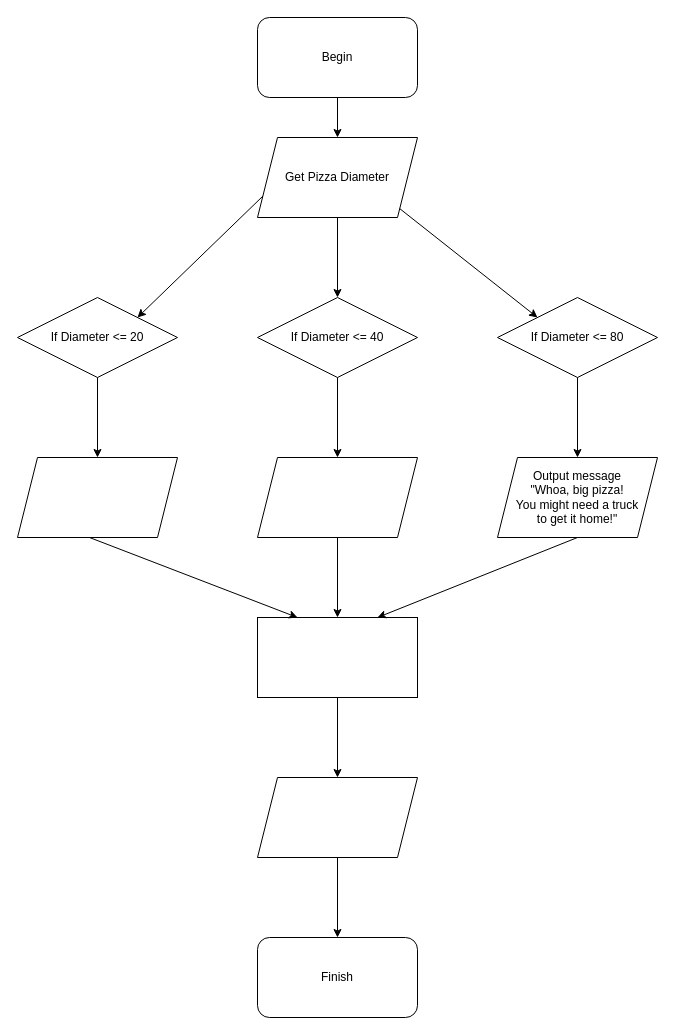
Image size: 675x1035. Some labels were removed from this diagram. The shapes that lost their labels are listed below. From the top down, each one's centre as x and y in pixels, then its label:
point 97,497: Output message "we are going to make you a cute little pizza!"
point 337,497: Output message "This will be delicious!"
point 337,657: Calculate Taxes, Subtotal, Grandtotal
point 337,817: Output Message "Taxes : " "Subtotal : " "Grand Total : "
